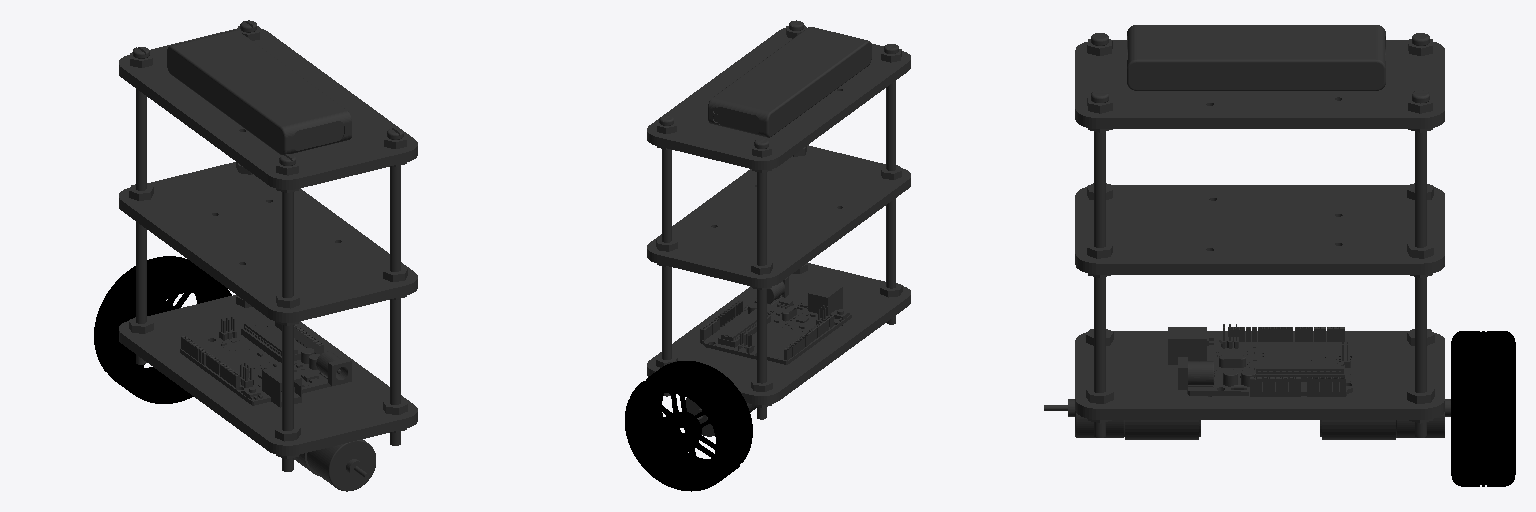
The robot description file, URDF, robot "self_balance":
<?xml version="1.0"?>
<!-- created with Phobos 1.0.1 "Capricious Choutengan" -->
  <robot name="self_balance">

    <link name="Untitled">
      <inertial>
        <origin xyz="0 0 0" rpy="0 0 0"/>
        <mass value="5.0"/>
        <inertia ixx="2e-05" ixy="0" ixz="0" iyy="2e-05" iyz="0" izz="2e-05"/>
      </inertial>
      <visual name="Assem2_No_Wheel">
        <origin xyz="0 0 0" rpy="0 0 0"/>
        <geometry>
          <mesh filename="meshes/stl/Assem2 No Wheel.stl" scale="0.002 0.002 0.002"/>
        </geometry>
        <material name="Material.001"/>
      </visual>
      <collision name="Assem2_No_Wheel.000">
        <origin xyz="-0.0009 -0.00034 -0.00071" rpy="0 0 0"/>
        <geometry>
          <mesh filename="meshes/stl/Assem2 No Wheel.003.stl" scale="1.0 1.0 1.0"/>
        </geometry>
      </collision>
    </link>

    <link name="Untitled.001">
      <inertial>
        <origin xyz="0 0 0" rpy="0 0 0"/>
        <mass value="1"/>
        <inertia ixx="0.001" ixy="0" ixz="0" iyy="0.001" iyz="0" izz="0.001"/>
      </inertial>
      <visual name="WHeelZ.001">
        <origin xyz="0 0 0" rpy="-1.5708 0 0"/>
        <geometry>
          <mesh filename="meshes/stl/WHeelZ.003.stl" scale="0.002 0.002 0.002"/>
        </geometry>
        <material name="Material.003"/>
      </visual>
      <collision name="WHeelZ.001.000">
        <origin xyz="2e-05 3e-05 -0.00026" rpy="-1.5708 0 0"/>
        <geometry>
          <mesh filename="meshes/stl/WHeelZ.005.stl" scale="1.0 1.0 1.0"/>
        </geometry>
      </collision>
    </link>

    <link name="Untitled.002">
      <inertial>
        <origin xyz="0 0 0" rpy="0 0 0"/>
        <mass value="1"/>
        <inertia ixx="0.001" ixy="0" ixz="0" iyy="0.001" iyz="0" izz="0.001"/>
      </inertial>
      <visual name="WHeelZ">
        <origin xyz="0 0 0" rpy="-1.5708 0 0"/>
        <geometry>
          <mesh filename="meshes/stl/WHeelZ.001.stl" scale="0.002 0.002 0.002"/>
        </geometry>
        <material name="Material.002"/>
      </visual>
      <collision name="WHeelZ.000">
        <origin xyz="2e-05 3e-05 -0.00064" rpy="-1.5708 0 0"/>
        <geometry>
          <mesh filename="meshes/stl/WHeelZ.004.stl" scale="1.0 1.0 1.0"/>
        </geometry>
      </collision>
    </link>

    <joint name="Untitled.001" type="continuous">
      <origin xyz="-0.00334 -0.17966 -0.13111" rpy="1.5708 0 -3.14159"/>
      <parent link="Untitled"/>
      <child link="Untitled.001"/>
      <axis xyz="0 0 1.0"/>
      <limit effort="100.0" velocity="0.5"/>
    </joint>

    <joint name="Untitled.002" type="continuous">
      <origin xyz="-0.00334 0.18646 -0.13111" rpy="1.5708 0 0"/>
      <parent link="Untitled"/>
      <child link="Untitled.002"/>
      <axis xyz="0 0 1.0"/>
      <limit effort="100.0" velocity="0.5"/>
    </joint>

    <material name="Material.001">
      <color rgba="0.25 0.25 0.25 1.0"/>
    </material>

    <material name="Material.002">
      <color rgba="0 0 0 1.0"/>
    </material>

    <material name="Material.003">
      <color rgba="0 0 0 1.0"/>
    </material>

  </robot>

--- Facts derived from the render (not from the file) ---
Views: 3 orthographic renders of the robot side by side, from view 1: azimuth 30°, elevation 25°; view 2: azimuth 150°, elevation 25°; view 3: azimuth 270°, elevation 25°.
Model self_balance with 3 links and 2 joints (2 continuous), rooted at Untitled, posed all joints at 0.
Visible links, largest first — view 1: Untitled, Untitled.002; view 2: Untitled, Untitled.002; view 3: Untitled, Untitled.002.
Boxes of the visible links, bbox=[...] form: Untitled: bbox=[119, 20, 417, 491]; Untitled.002: bbox=[94, 256, 231, 403]; Untitled: bbox=[647, 20, 910, 436]; Untitled.002: bbox=[625, 361, 752, 491]; Untitled: bbox=[1044, 25, 1450, 439]; Untitled.002: bbox=[1451, 331, 1515, 486].
Size in the robot's own frame: 0.15 by 0.3818 by 0.3862 metres.
2 mesh visuals loaded from 3 distinct referenced files (2 binary STL); not drawn: 1 (reference not matched to a file when rendering).
